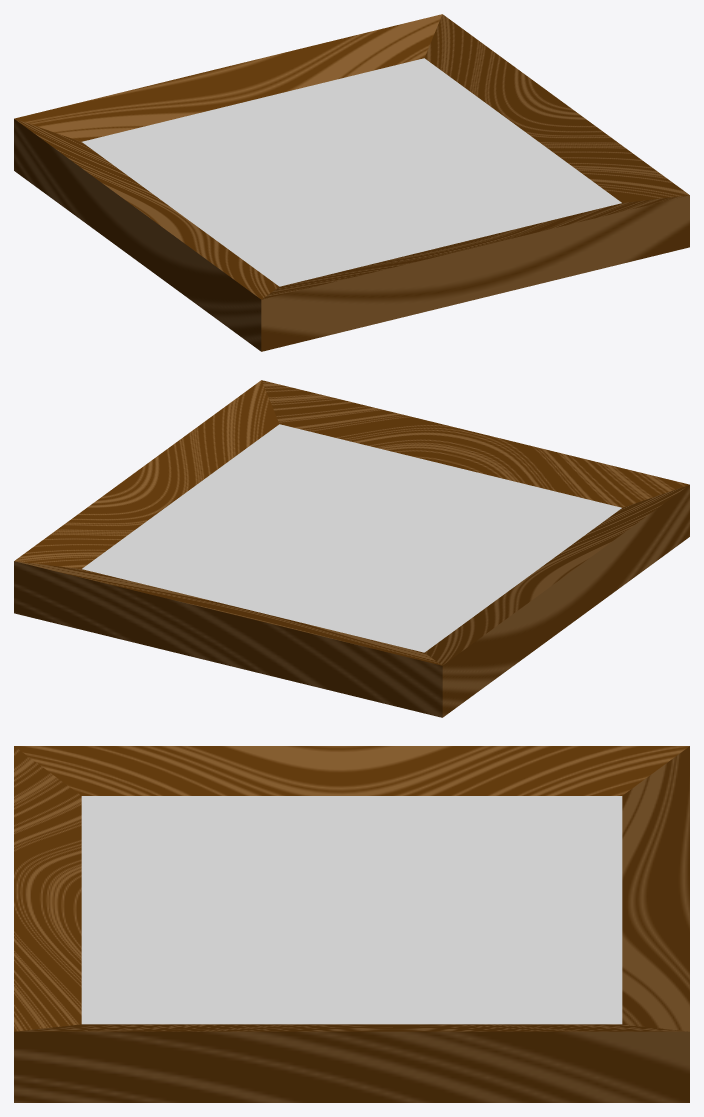
The model's file is Museum Picture Frame 1.fbx.
The picture shows the model from 3 angles, top to bottom: view 1: azimuth 30°, elevation 25°; view 2: azimuth 150°, elevation 25°; view 3: azimuth 270°, elevation 25°; orthographic projection. The views are drawn at different scales.
Parts seen in each view (by area): view 1: Cube; view 2: Cube; view 3: Cube.
Part boxes in pixels (<box>): Cube: <box>14,14,689,351</box>; Cube: <box>14,380,689,717</box>; Cube: <box>14,746,689,1102</box>.
Bounding box in the file's own units: 1000 × 116 × 1000.
